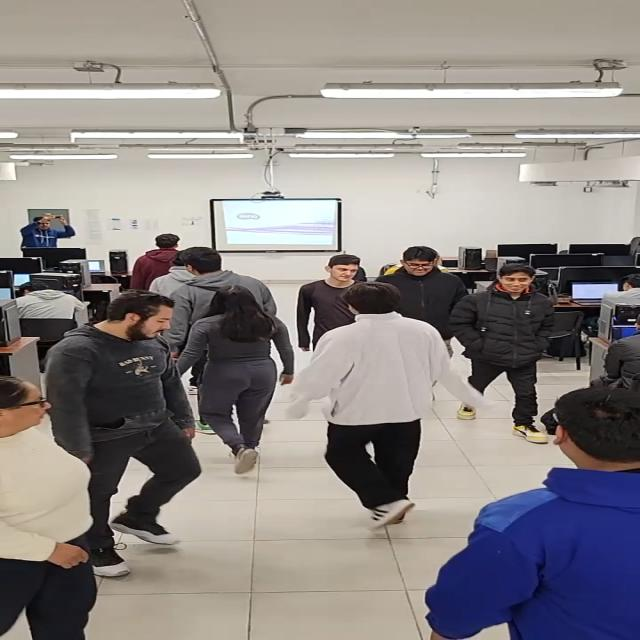Persona: (461, 389, 639, 635), (54, 289, 208, 547), (332, 282, 446, 534), (0, 380, 111, 638), (187, 287, 289, 473), (470, 264, 551, 442), (183, 247, 286, 298), (393, 246, 460, 322), (306, 251, 356, 324), (130, 233, 193, 286), (25, 212, 76, 251)
